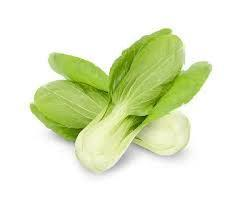Healthy-Pechay: (24, 38, 207, 154), (82, 23, 181, 172)
